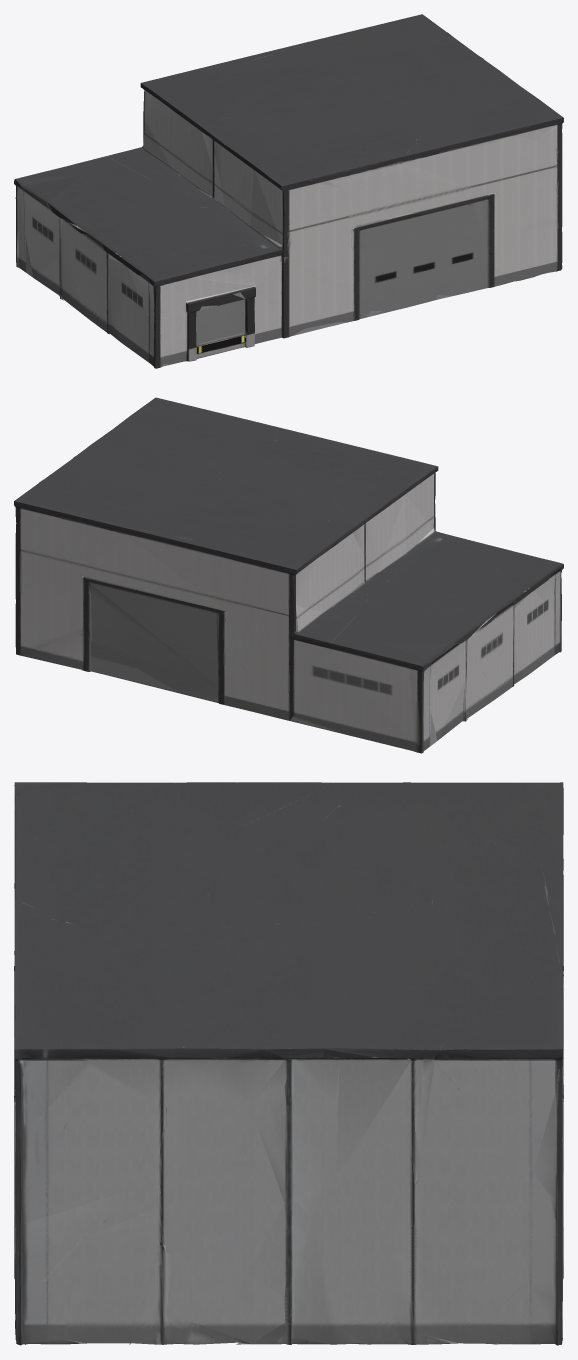
Rendered from A08_IndustrialBuilding.fbx.
The picture shows the model from 3 angles, top to bottom: view 1: azimuth 30°, elevation 25°; view 2: azimuth 150°, elevation 25°; view 3: azimuth 270°, elevation 25°; orthographic projection. The views are drawn at different scales.
Visible parts, largest first — view 1: IndustrialBuilding; view 2: IndustrialBuilding; view 3: IndustrialBuilding.
Boxes of the visible parts, left/top/right/bottom form: IndustrialBuilding: left=14, top=14, right=563, bottom=368; IndustrialBuilding: left=14, top=397, right=563, bottom=753; IndustrialBuilding: left=14, top=782, right=563, bottom=1345.
Bounding box in the file's own units: 2500 × 900 × 1500.
1 material, 1 textured.
